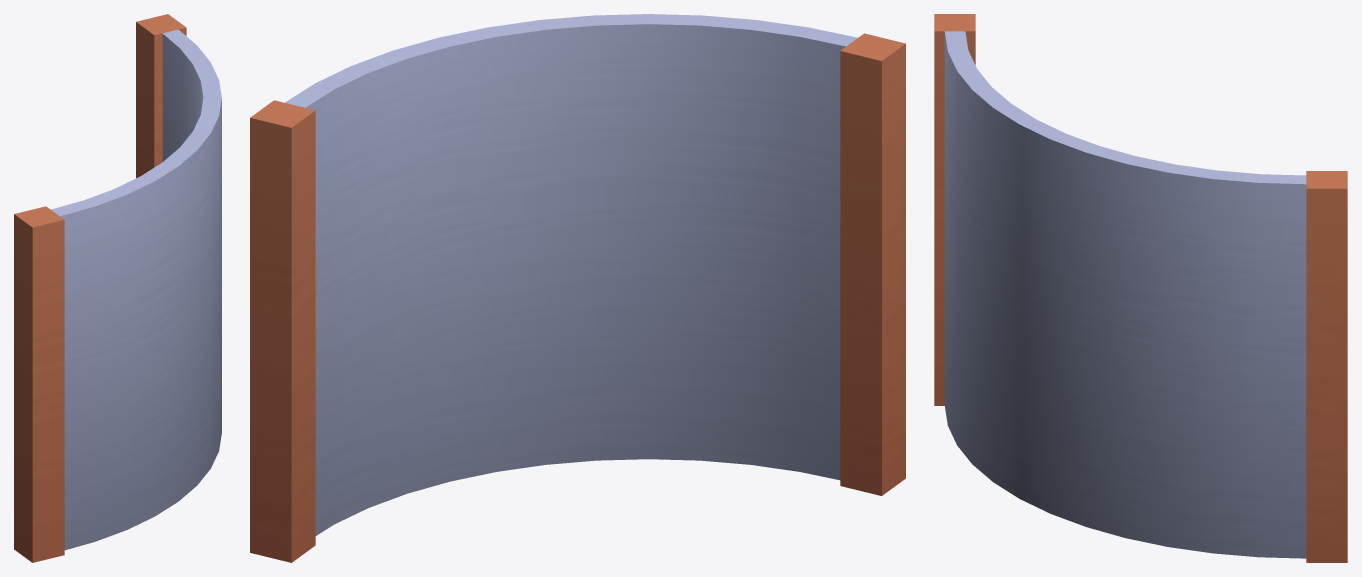
File: wallCurved.fbx
3 renders of one model, left to right at view 1: azimuth 30°, elevation 25°; view 2: azimuth 150°, elevation 25°; view 3: azimuth 270°, elevation 25°, orthographic. The views are drawn at different scales.
Visible parts, largest first — view 1: wallCurved; view 2: wallCurved; view 3: wallCurved.
Part boxes in pixels (x1,y1,x2,y2): wallCurved: (14, 14, 221, 562); wallCurved: (250, 14, 905, 562); wallCurved: (934, 14, 1347, 562).
Size of the model in its own units: 1 by 1 by 1.
